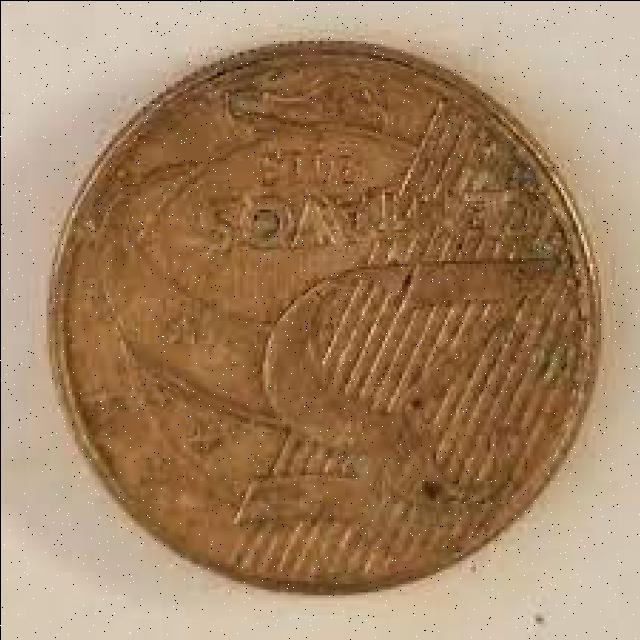25 cent: (56, 35, 593, 597)
